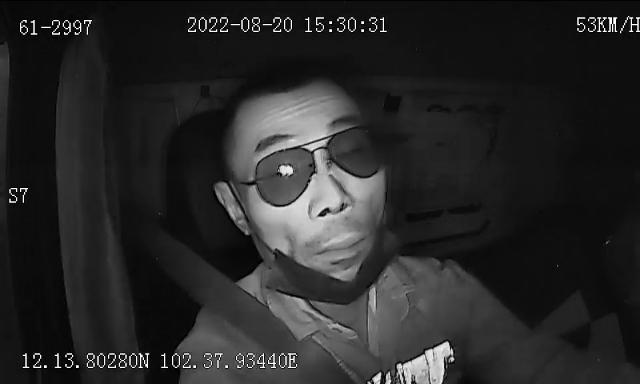SafeDriving: (265, 158, 305, 186)
Seatbelt: (150, 230, 356, 384)
